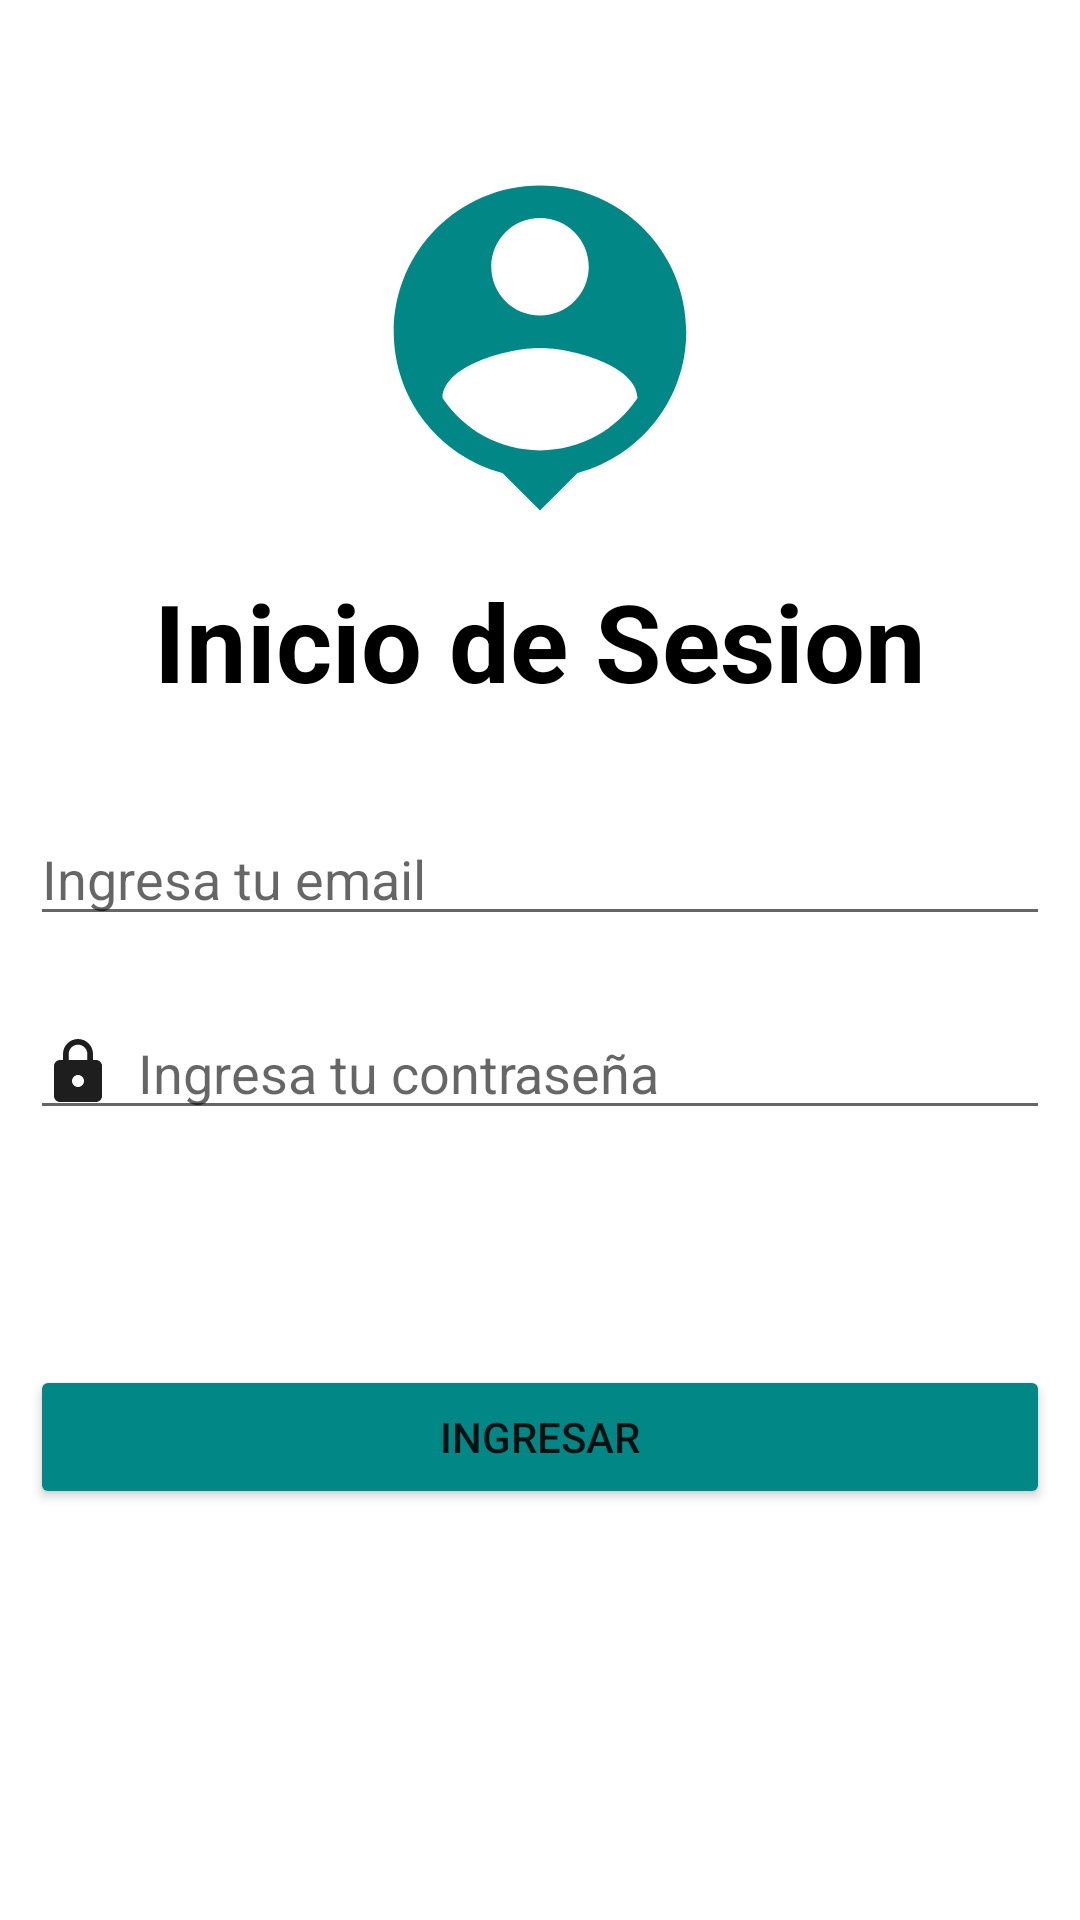

Where icons sit on this 1080w x 1920h app screen, as (x1, y1, x2, y2):
person pin: (393, 185, 687, 511)
